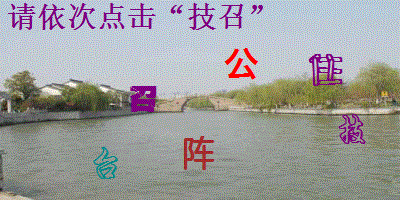result: (185, 2, 245, 30)
text: (307, 50, 346, 89), (179, 135, 218, 173), (223, 46, 261, 81), (335, 113, 369, 146), (90, 145, 120, 181), (127, 84, 160, 113)
